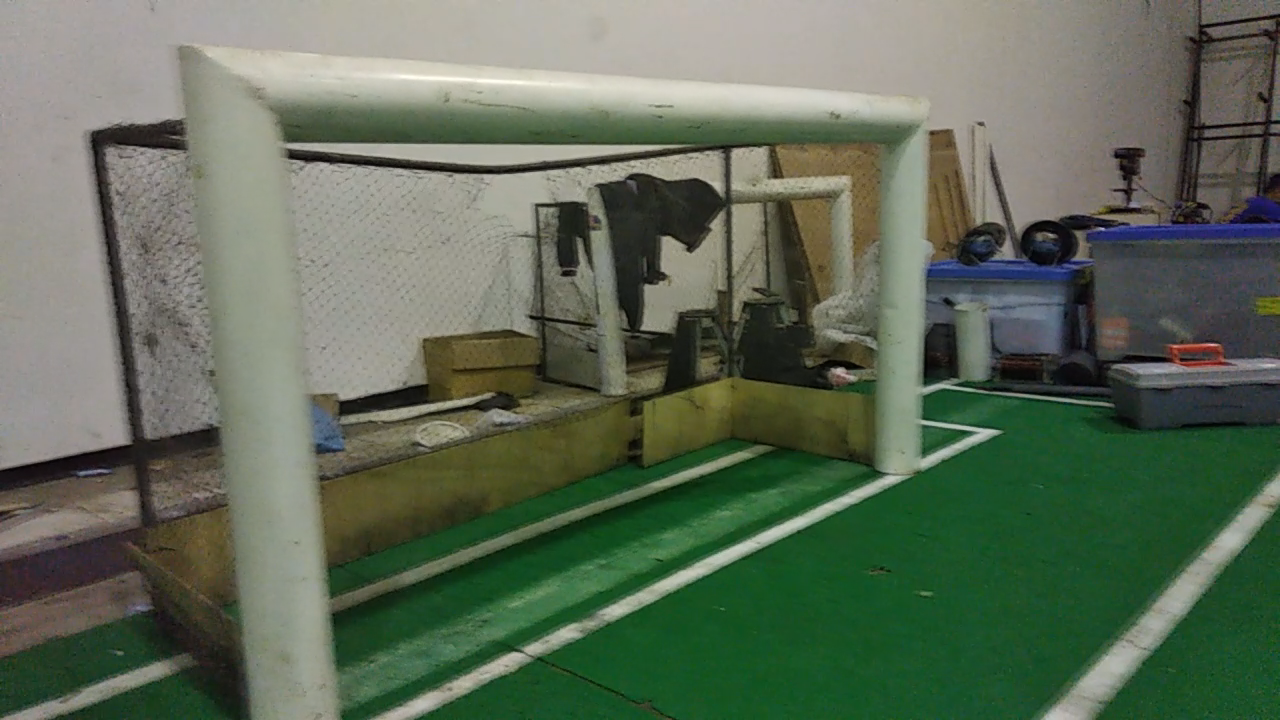gawang: (156, 27, 945, 712)
